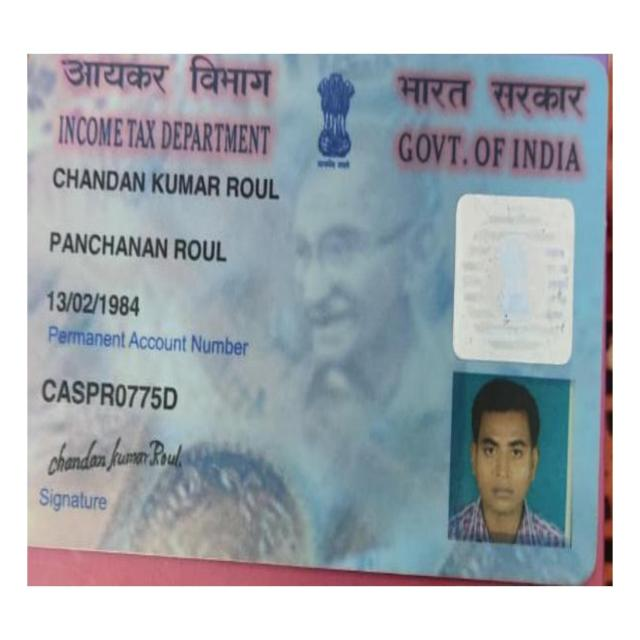pan_card: (28, 53, 594, 567)
